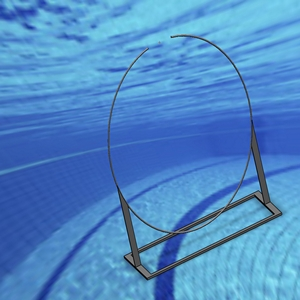circle: (105, 32, 284, 278)
